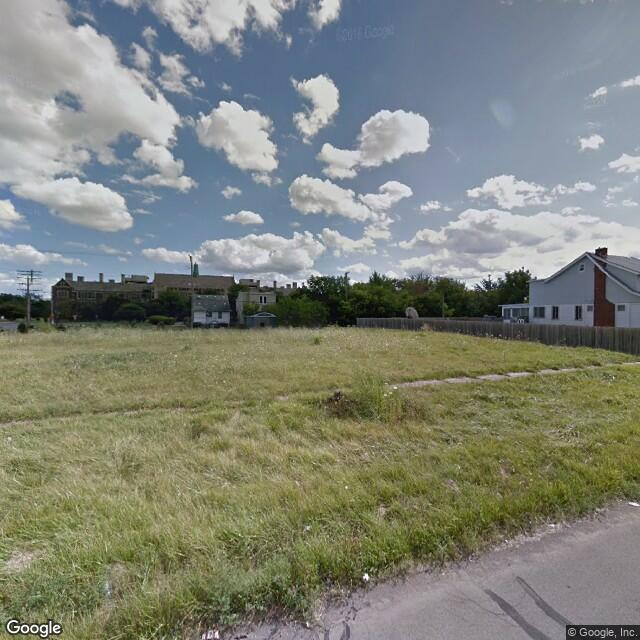litter: (195, 620, 229, 640), (359, 568, 378, 584), (630, 499, 640, 508), (547, 522, 558, 529)
